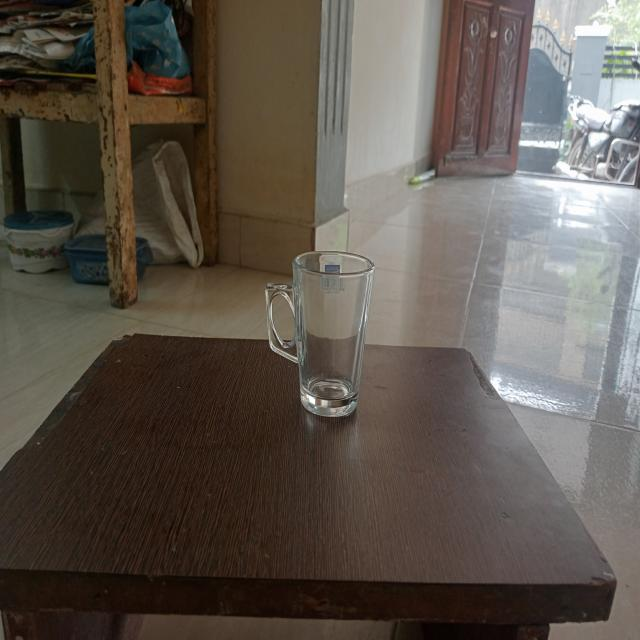glass-VX4N: (265, 250, 386, 421)
